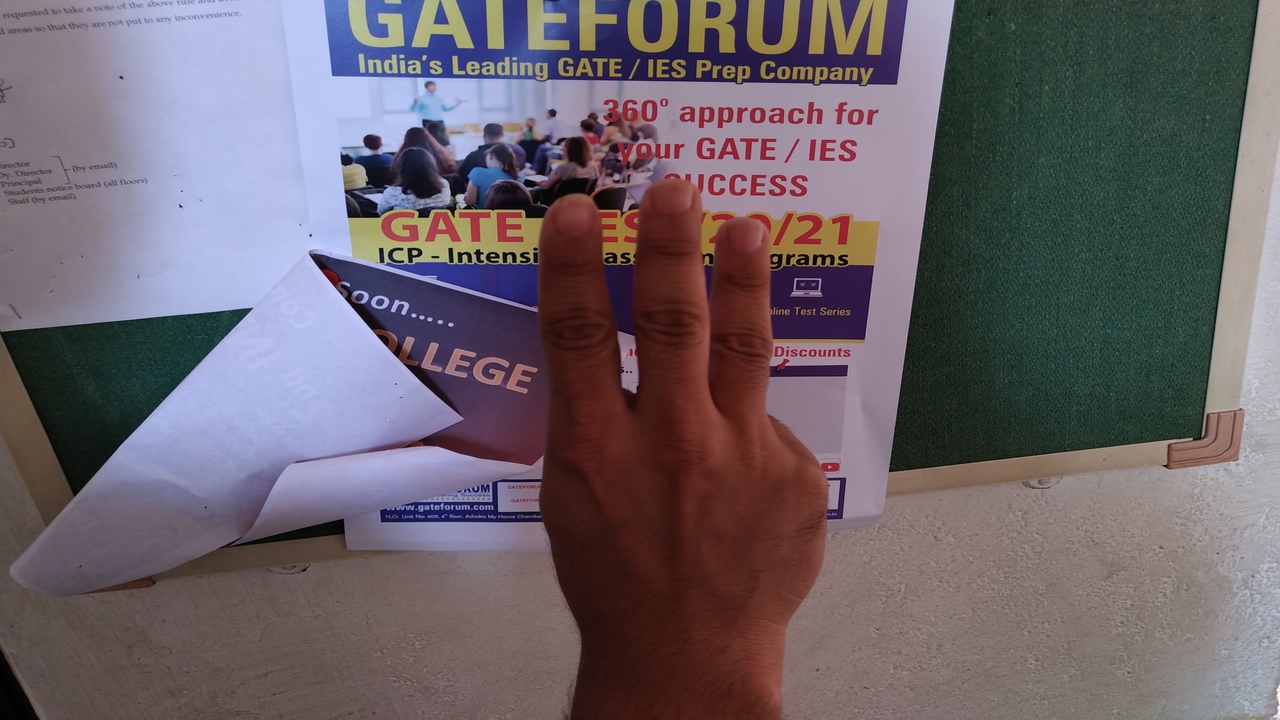fingertip: (634, 166, 708, 236), (540, 186, 600, 252), (714, 206, 774, 266)
